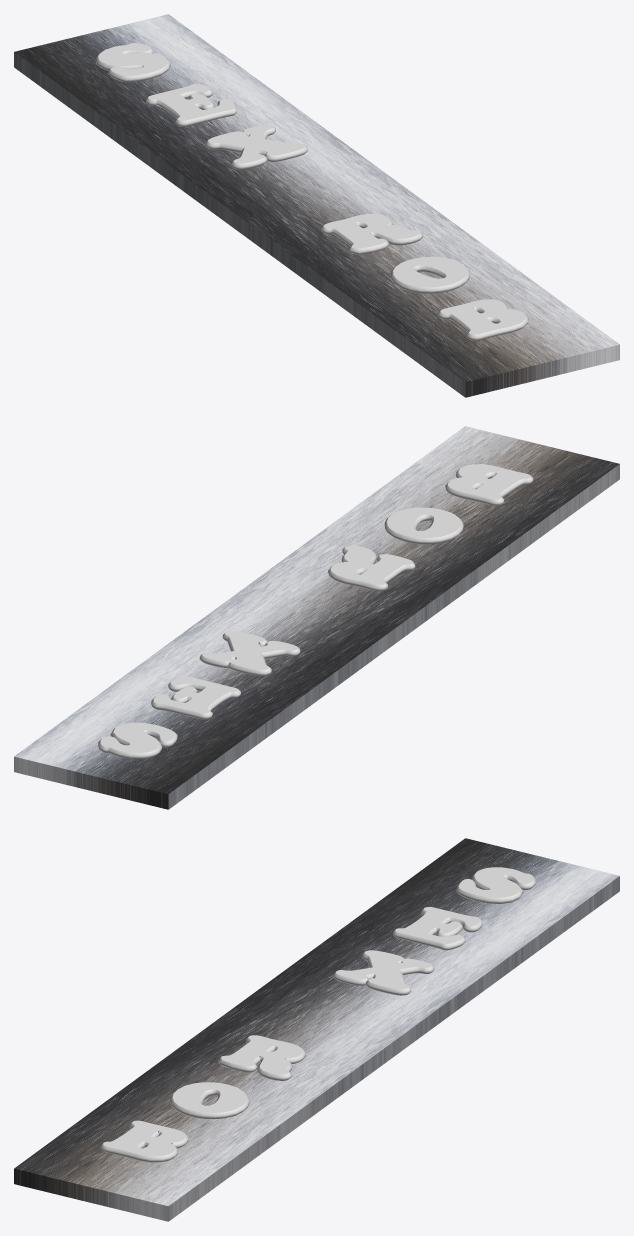
The model's file is Placa6.fbx.
3 views of the same model, one above another, from view 1: azimuth 30°, elevation 25°; view 2: azimuth 150°, elevation 25°; view 3: azimuth 330°, elevation 25° (orthographic).
Parts seen in each view (by area): view 1: Text.005; view 2: Text.005; view 3: Text.005.
Part boxes in pixels (box(x1,y1,x2,y2)): Text.005: box(14, 14, 619, 397); Text.005: box(14, 426, 619, 809); Text.005: box(14, 838, 619, 1221).
Bounding box in the file's own units: 153 × 20.35 × 773.
